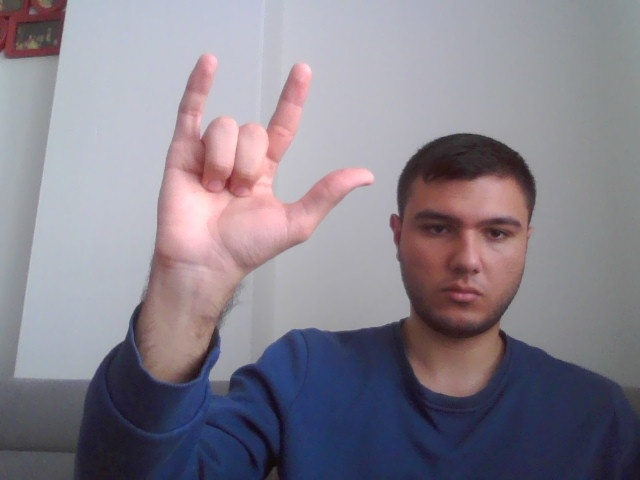ı love you: (155, 53, 379, 263)
